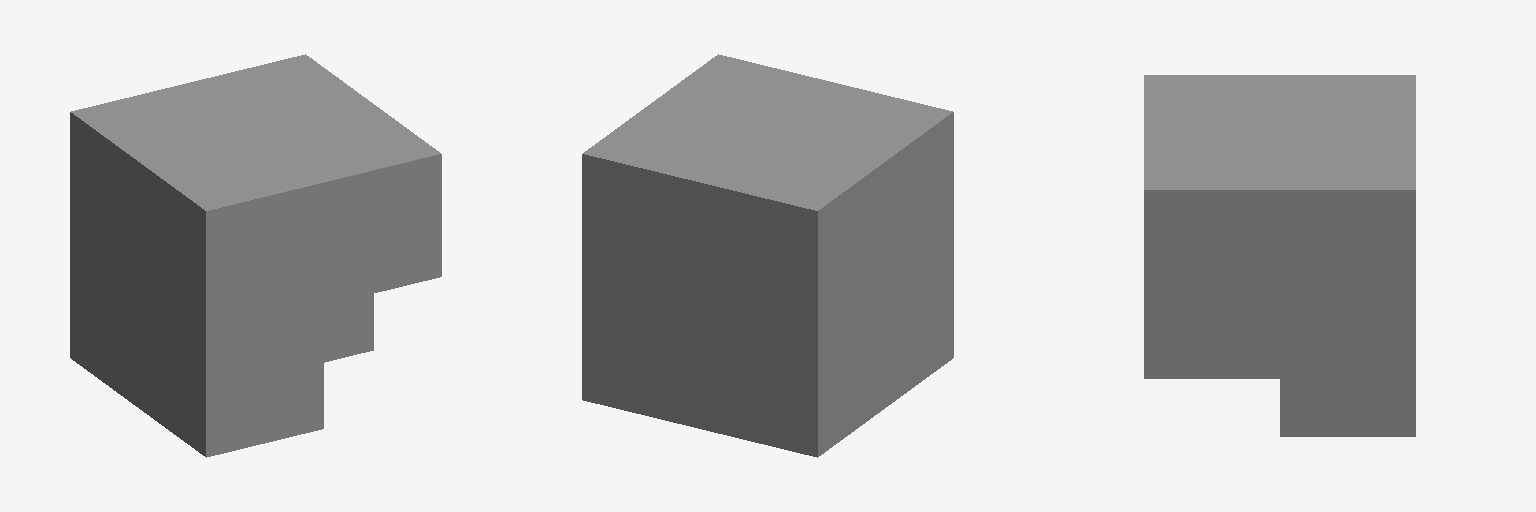
The model's file is bauhaus-corner.001.obj.
The picture shows the model from 3 angles: view 1: azimuth 30°, elevation 25°; view 2: azimuth 150°, elevation 25°; view 3: azimuth 270°, elevation 25°; orthographic projection.
Visible parts, largest first — view 1: bauhaus-corner.001; view 2: bauhaus-corner.001; view 3: bauhaus-corner.001.
Part boxes in pixels (left/top/right/bottom): bauhaus-corner.001: left=70, top=54, right=441, bottom=457; bauhaus-corner.001: left=582, top=54, right=953, bottom=457; bauhaus-corner.001: left=1144, top=75, right=1415, bottom=436.
Size of the model in its own units: 3 by 3 by 3.